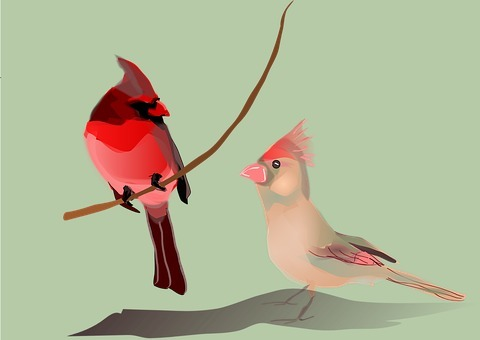bird: (238, 113, 468, 328), (79, 50, 196, 300)
